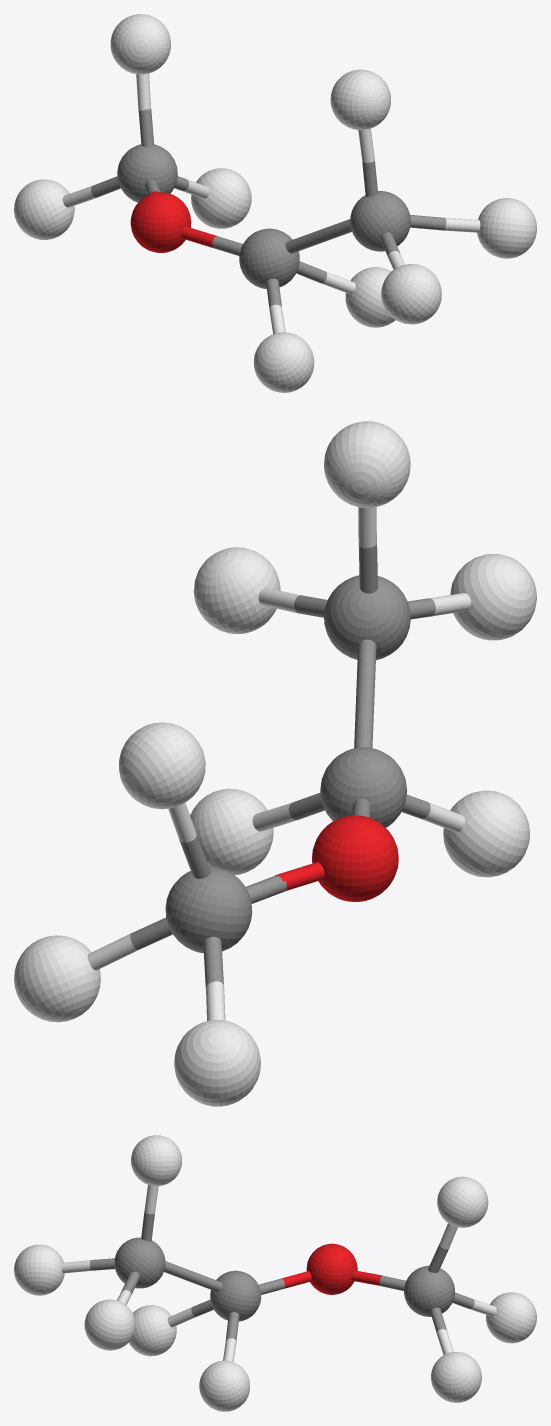
The model's file is methoxyethane.fbx.
3 renders of one model, top to bottom at view 1: azimuth 30°, elevation 25°; view 2: azimuth 150°, elevation 25°; view 3: azimuth 270°, elevation 25°, orthographic. The views are drawn at different scales.
Parts seen in each view (by area): view 1: Sphere.013, Sphere.009, Sphere.010, Sphere.007, Sphere.008, Sphere.003, Sphere.004, Sphere.006, Sphere.001, Sphere.005, Sphere.000, Sphere.002 (+7 smaller); view 2: Sphere.007, Sphere.010, Sphere.004, Sphere.006, Sphere.003, Sphere.013, Sphere.008, Sphere.009, Sphere.000, Sphere.005, Sphere.002, Sphere.001 (+5 smaller); view 3: Sphere.008, Sphere.007, Sphere.010, Sphere.002, Sphere.006, Sphere.009, Sphere.003, Sphere.004, Sphere.000, Sphere.005, Sphere.001, Sphere.013 (+2 smaller).
Boxes of the visible parts, box(x1,y1,x2,y2) form: Sphere.013: box(253, 332, 314, 392); Sphere.009: box(381, 263, 441, 324); Sphere.010: box(330, 69, 390, 130); Sphere.007: box(110, 14, 170, 74); Sphere.008: box(477, 198, 536, 258); Sphere.003: box(130, 192, 191, 252); Sphere.004: box(14, 179, 74, 239); Sphere.006: box(191, 168, 251, 228); Sphere.001: box(239, 228, 299, 288); Sphere.005: box(350, 191, 410, 251); Sphere.000: box(117, 144, 177, 202); Sphere.002: box(345, 267, 395, 327); Sphere.007: box(119, 722, 205, 809); Sphere.010: box(324, 421, 410, 507); Sphere.004: box(174, 1020, 260, 1106); Sphere.006: box(14, 935, 100, 1022); Sphere.003: box(312, 815, 398, 901); Sphere.013: box(443, 790, 529, 877); Sphere.008: box(193, 547, 280, 633); Sphere.009: box(450, 554, 536, 640); Sphere.000: box(165, 867, 252, 953); Sphere.005: box(324, 575, 410, 659); Sphere.002: box(190, 788, 273, 875); Sphere.001: box(320, 747, 406, 827); Sphere.008: box(84, 1299, 135, 1350); Sphere.007: box(437, 1176, 488, 1227); Sphere.010: box(131, 1135, 181, 1186); Sphere.002: box(199, 1360, 249, 1411); Sphere.006: box(431, 1351, 481, 1402); Sphere.009: box(14, 1244, 64, 1295); Sphere.003: box(306, 1243, 357, 1294); Sphere.004: box(486, 1292, 536, 1343); Sphere.000: box(404, 1265, 454, 1316); Sphere.005: box(114, 1237, 165, 1288); Sphere.001: box(210, 1270, 261, 1321); Sphere.013: box(128, 1305, 176, 1356).
Size of the model in its own units: 79.87 by 81.52 by 155.
